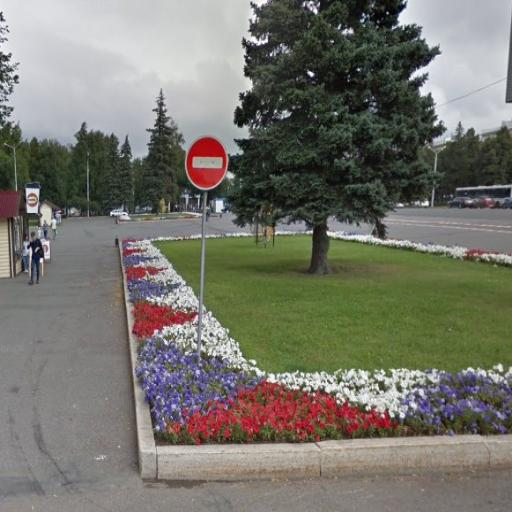traffic_sign: (183, 137, 231, 195)
